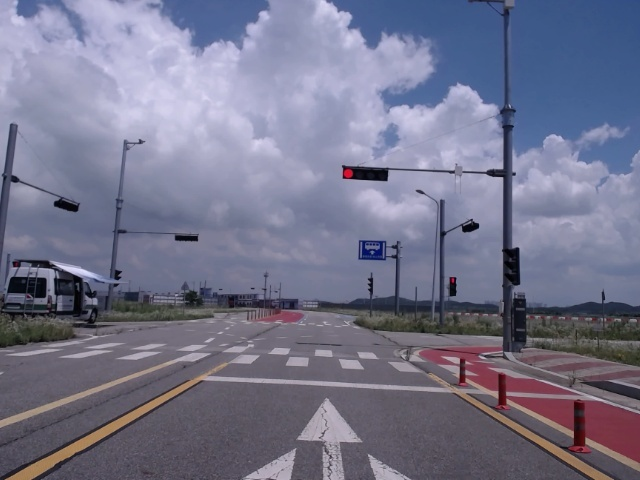red_4: (343, 168, 388, 182)
